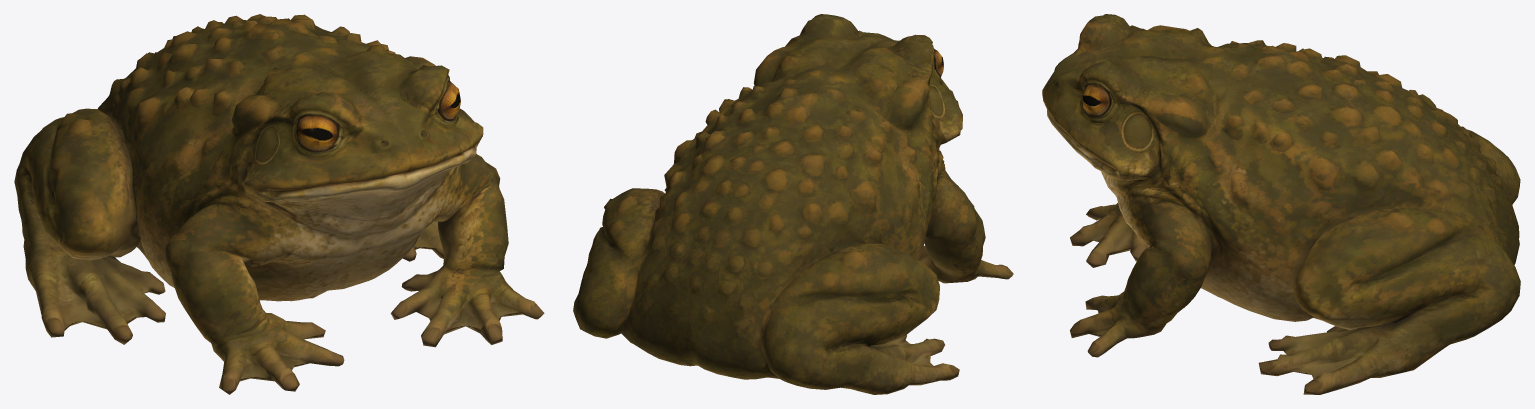
File: original.glb
3 views of the same model, side by side, from view 1: azimuth 30°, elevation 25°; view 2: azimuth 150°, elevation 25°; view 3: azimuth 270°, elevation 25° (orthographic). The views are drawn at different scales.
Visible parts, largest first — view 1: tripo_node_a081abdd-01d2-4627-8e29-dd2b198b0433; view 2: tripo_node_a081abdd-01d2-4627-8e29-dd2b198b0433; view 3: tripo_node_a081abdd-01d2-4627-8e29-dd2b198b0433.
Part boxes in pixels (<box>): tripo_node_a081abdd-01d2-4627-8e29-dd2b198b0433: <box>14,14,544,394</box>; tripo_node_a081abdd-01d2-4627-8e29-dd2b198b0433: <box>573,14,1013,394</box>; tripo_node_a081abdd-01d2-4627-8e29-dd2b198b0433: <box>1042,14,1520,394</box>.
Bounding box in the file's own units: 0.9249 × 0.5894 × 0.9811.
Materials: 1 (1 with a texture image).
